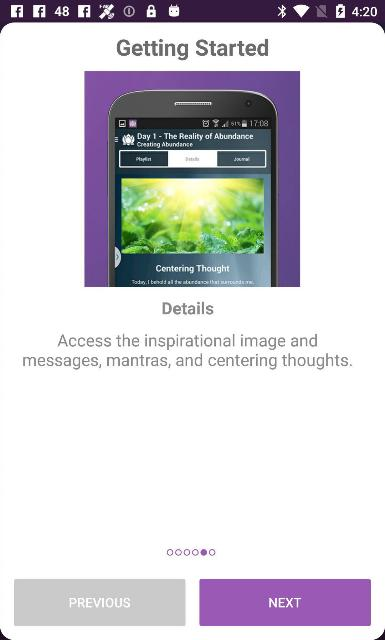Image: (84, 71, 300, 287)
PageIndicator: (166, 548, 216, 556)
Text: (23, 334, 352, 371), (116, 39, 268, 61), (162, 301, 214, 315), (69, 598, 130, 608), (269, 598, 301, 608)
TextButton: (14, 578, 186, 626), (200, 578, 370, 626)
UpperTaskBar: (0, 0, 384, 22)
